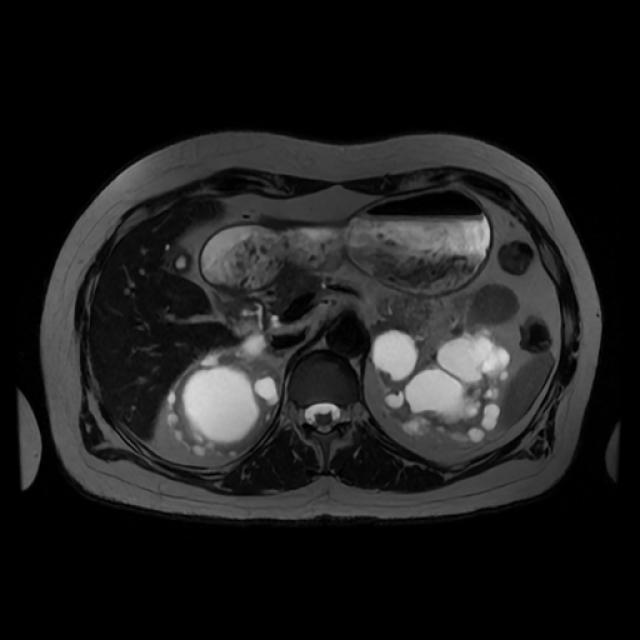sag: (168, 337, 283, 459)
sol: (376, 330, 514, 452)
